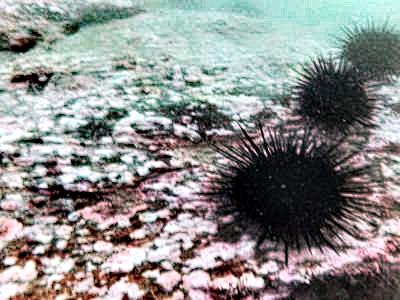urchin: (199, 119, 372, 272), (289, 53, 367, 134), (334, 12, 396, 81)
